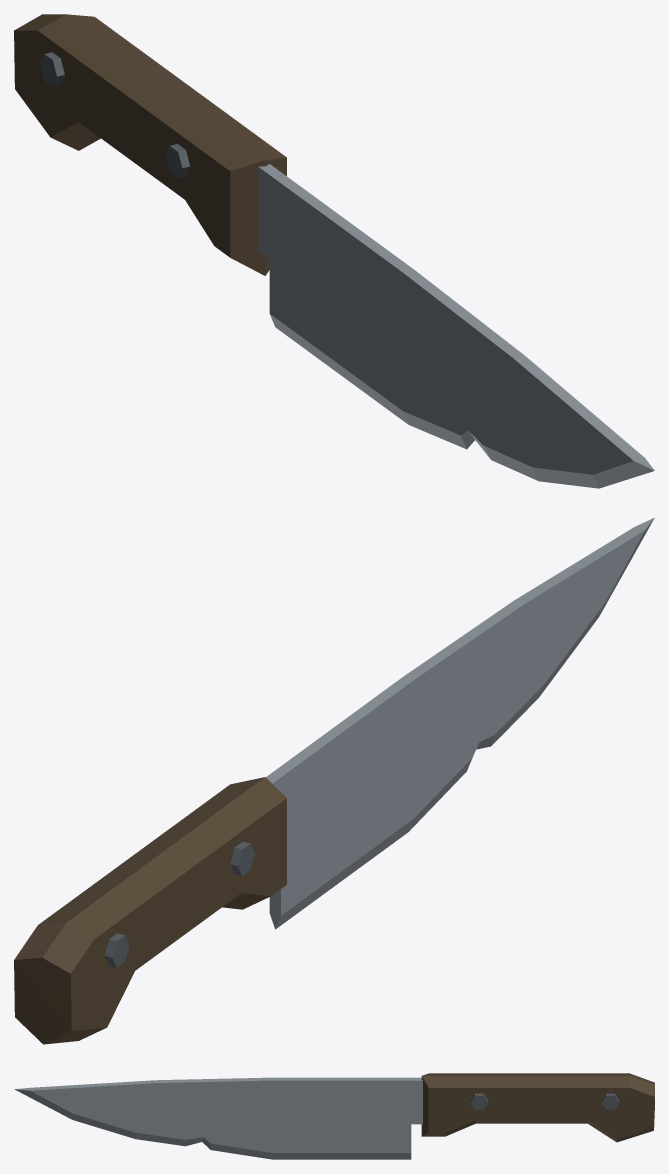
File: SM_Prop_Knife_01.fbx
The picture shows the model from 3 angles, top to bottom: view 1: azimuth 30°, elevation 25°; view 2: azimuth 150°, elevation 25°; view 3: azimuth 270°, elevation 25°; orthographic projection. The views are drawn at different scales.
Visible parts, largest first — view 1: SM_Prop_Knife_01; view 2: SM_Prop_Knife_01; view 3: SM_Prop_Knife_01.
Boxes of the visible parts, x1,y1,x2,y2 form: SM_Prop_Knife_01: (14, 14, 654, 488); SM_Prop_Knife_01: (14, 517, 654, 1044); SM_Prop_Knife_01: (14, 1073, 654, 1159).
Bounding box in the file's own units: 5.48 × 11.55 × 80.18.
